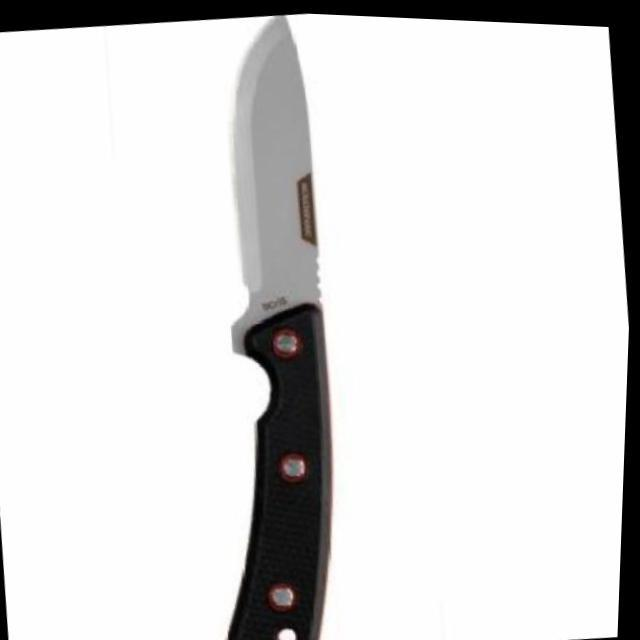weapon: (162, 6, 371, 640)
